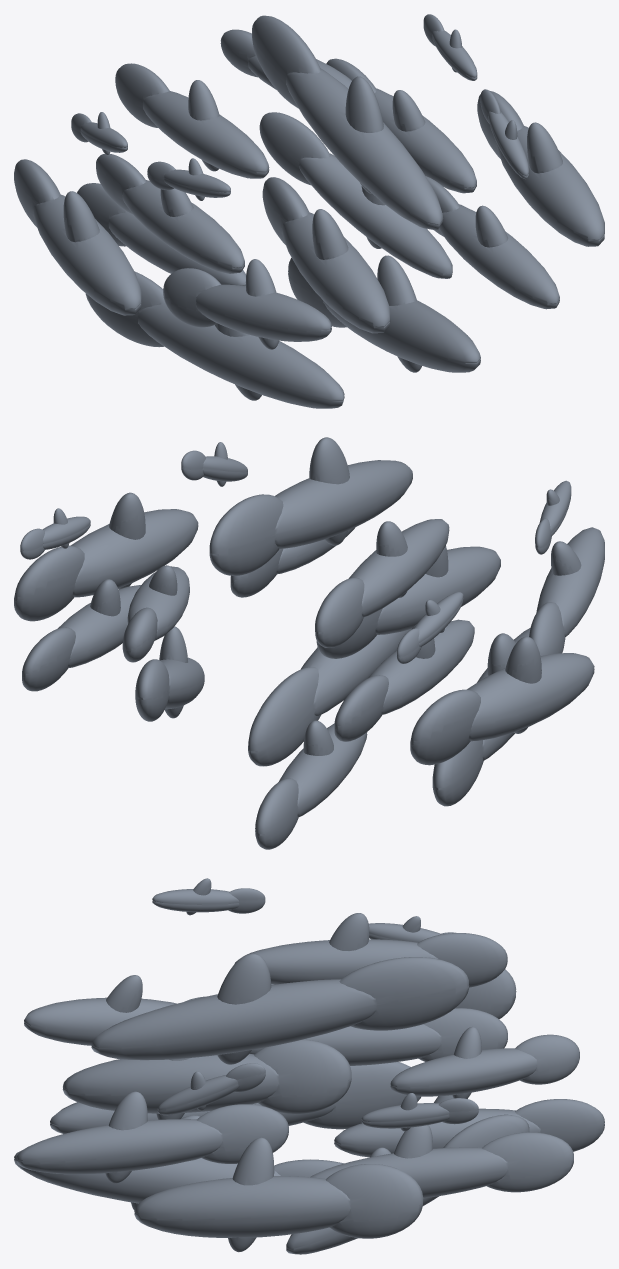
The model's file is sustainfish.gltf.
The picture shows the model from 3 angles, top to bottom: view 1: azimuth 30°, elevation 25°; view 2: azimuth 150°, elevation 25°; view 3: azimuth 270°, elevation 25°; orthographic projection. The views are drawn at different scales.
Size of the model in its own units: 2.86 by 1.57 by 3.04.
